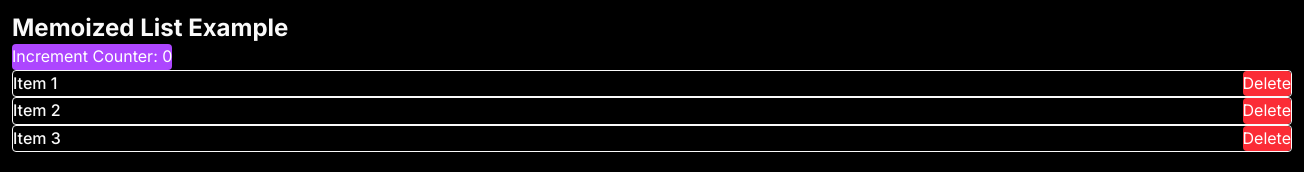
Scenario: Memoized List Components › MemoizedListExample › increments counter without re-rendering items
Click the button "Increment Counter: 0" at (92, 57), box [12, 44, 172, 70]
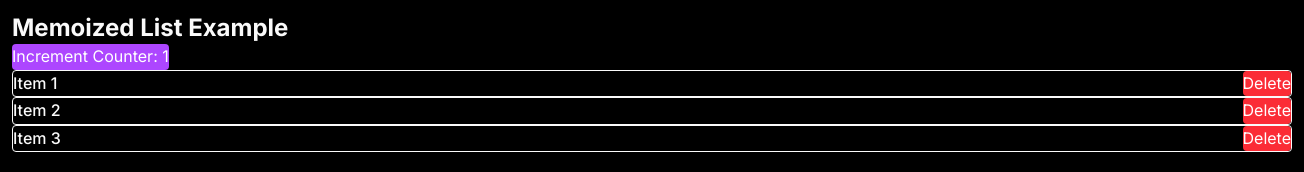
Expected: the text "Item 1" is shown, [13, 71, 57, 96]
Now the button "Increment Counter: 1" is shown, box [12, 44, 169, 70]
